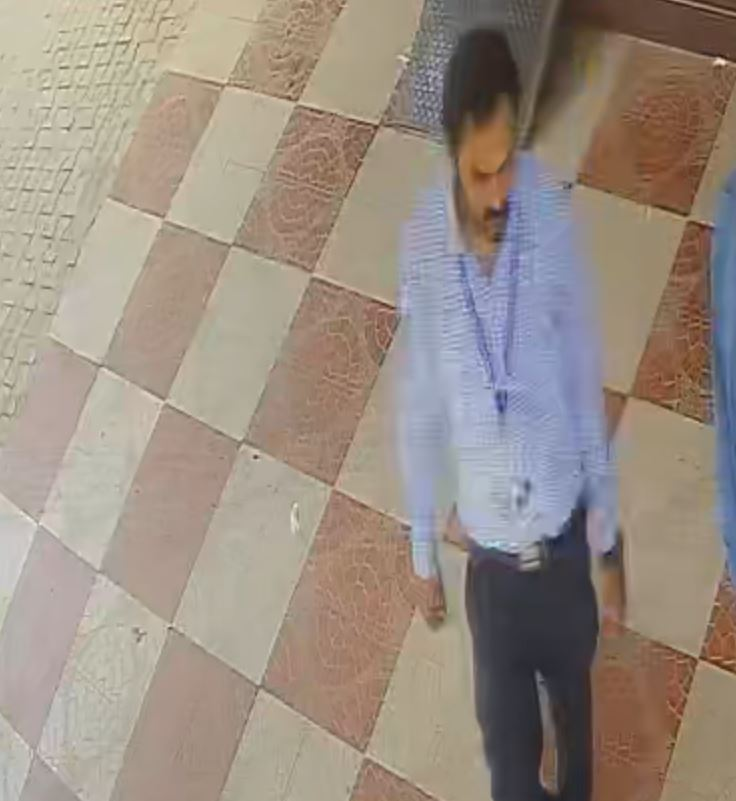not intruder: (385, 23, 633, 801)
